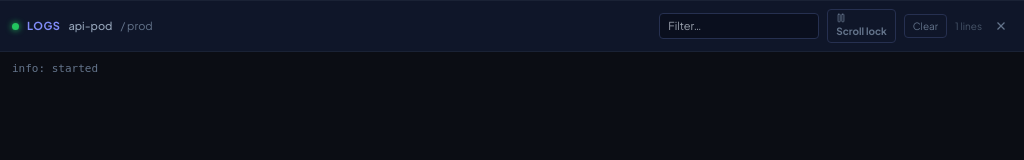
Test: LogStream › clears lines when Clear button is clicked
This screenshot has width=1024, height=160.
Check: the text "info: started" is shown, box [12,62,98,75]
Click the button "Clear": (925, 26) [904,14,947,38]
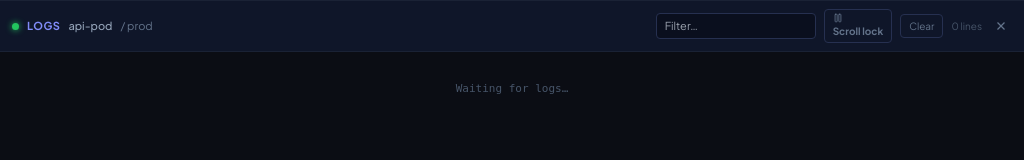
Check: the text "info: started" is gone
